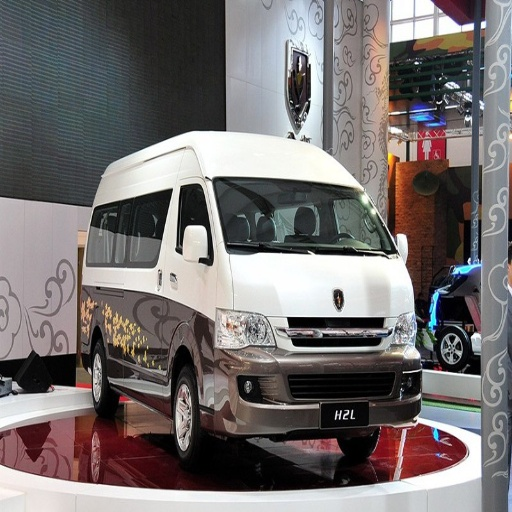front_bumper: (199, 313, 423, 436)
front_right_door: (177, 175, 215, 292)
front_right_light: (210, 309, 273, 349)
hood: (237, 253, 408, 317)
trunk: (4, 237, 152, 355)
